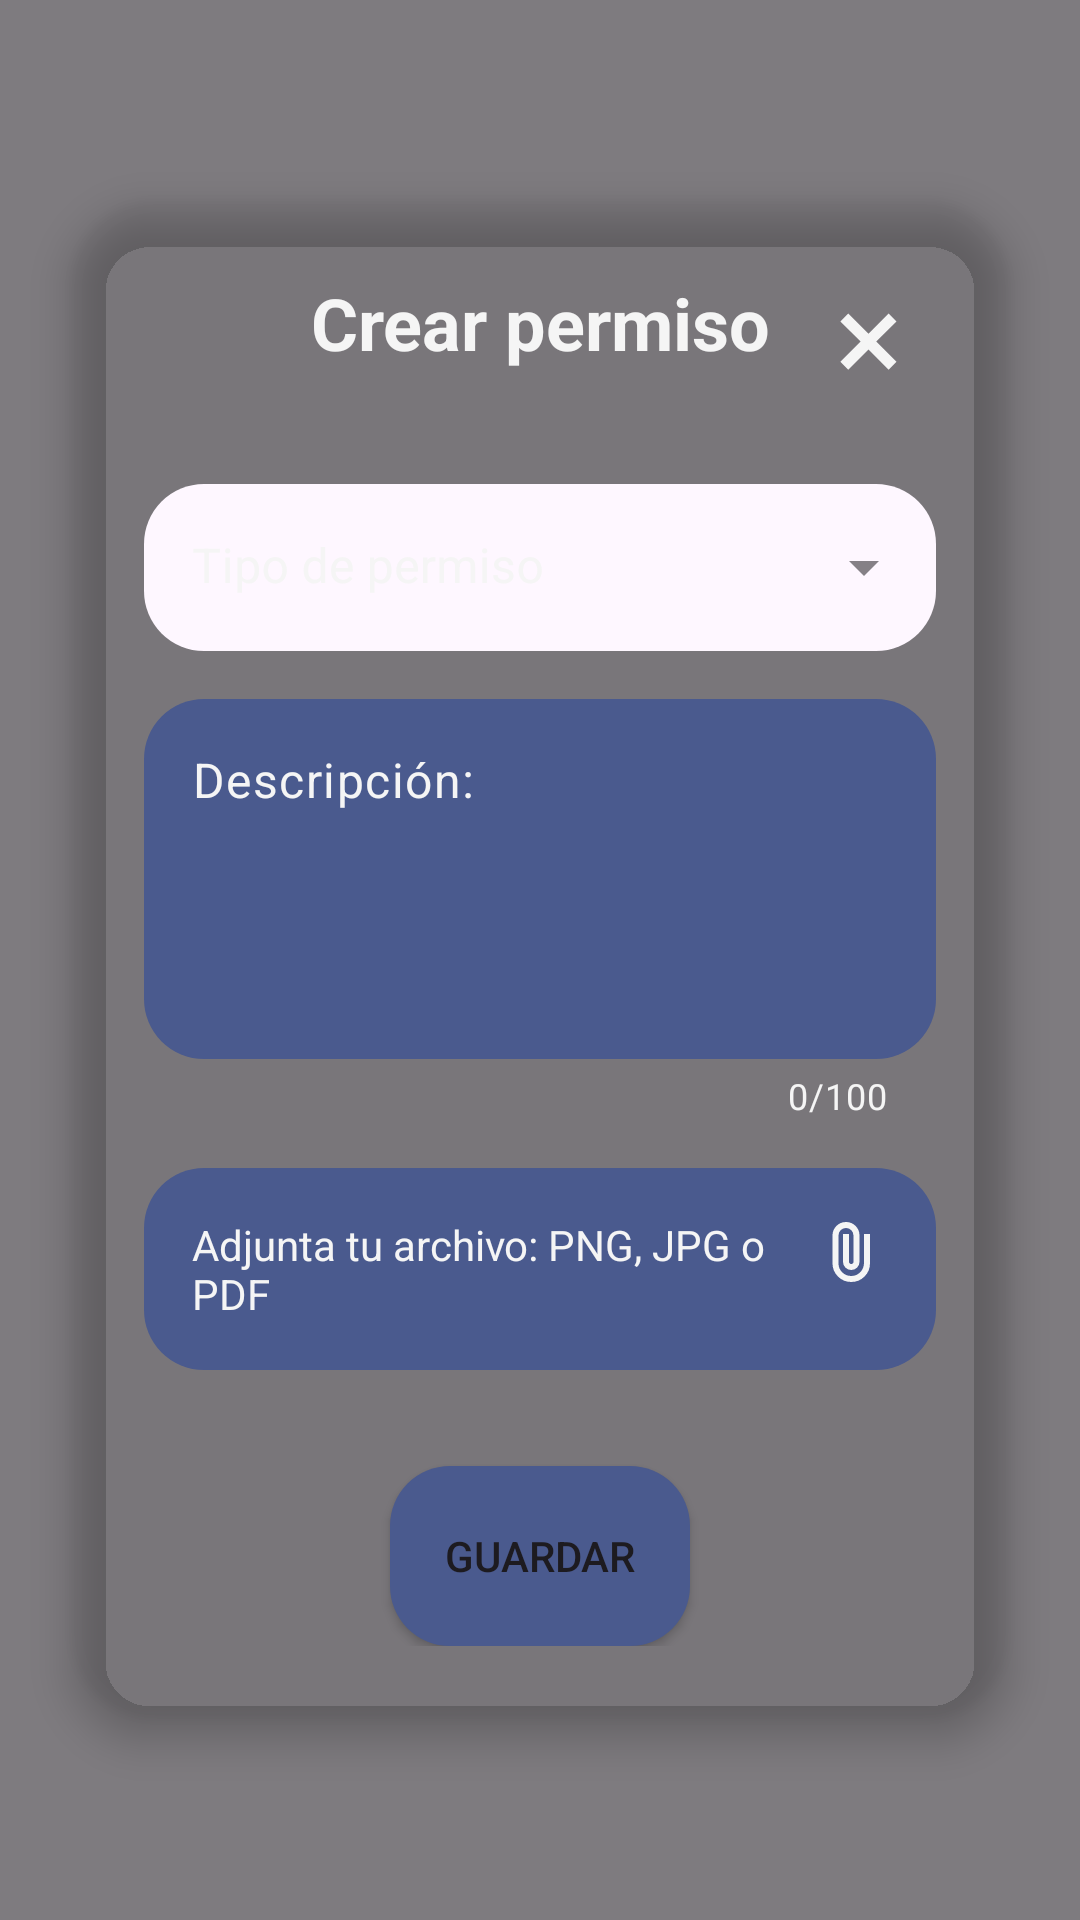

Icon bounding boxes for this 1080x1920 phone screenshot, format detection(x1, y1, x2, y2):
Cerrar freagment: detection(840, 313, 897, 370)
clip: detection(832, 1222, 870, 1282)
